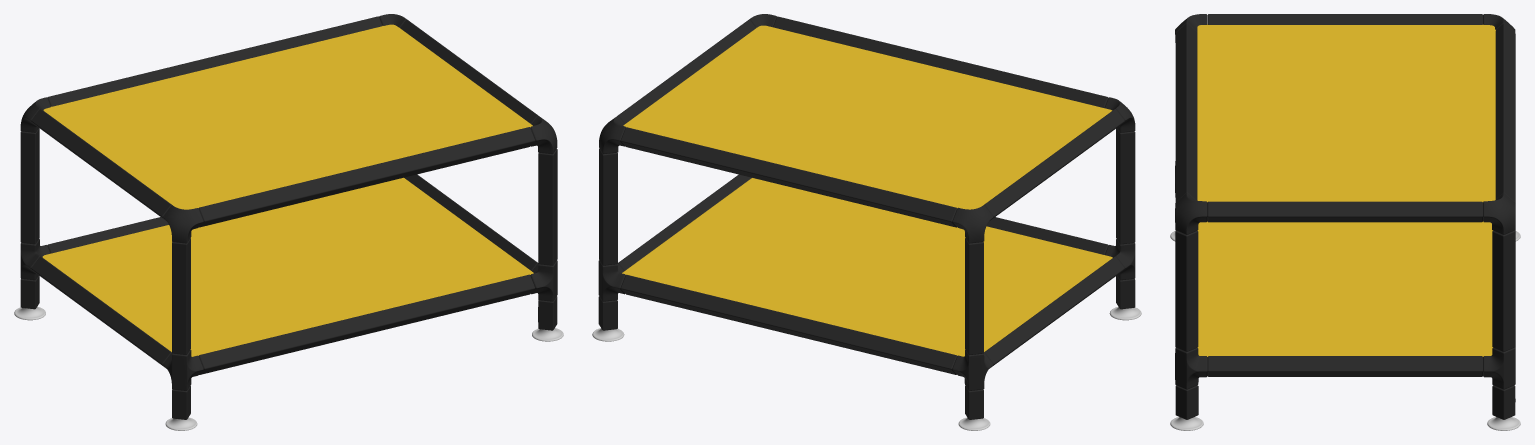
The picture shows the model from 3 angles, left to right: view 1: azimuth 30°, elevation 25°; view 2: azimuth 150°, elevation 25°; view 3: azimuth 270°, elevation 25°; orthographic projection. The views are drawn at different scales.
Parts seen in each view (by area): view 1: 479x329x154; view 2: 479x329x154; view 3: 479x329x154.
Boxes of the visible parts, x1,y1,x2,y2 form: 479x329x154: [14, 14, 563, 430]; 479x329x154: [592, 14, 1141, 430]; 479x329x154: [1170, 14, 1520, 430].
Size of the model in its own units: 0.5689 by 0.2933 by 0.4182.
